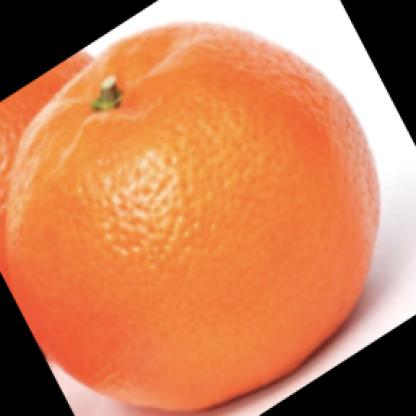fresh: (12, 22, 381, 407)
